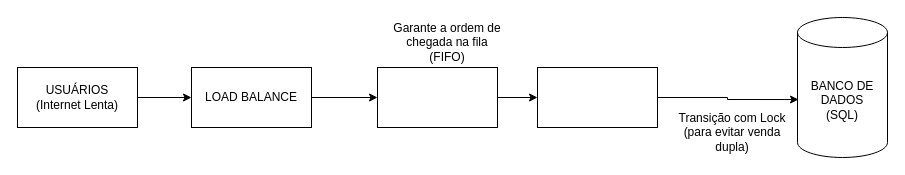
Image size: 905x175. Some labels were removed from this diagram. Here are the shapes that lost their labels. From the top down, the centre of each, then its label:
At point 437,97: "FILA VIRTUAL".
At point 597,97: "API".
